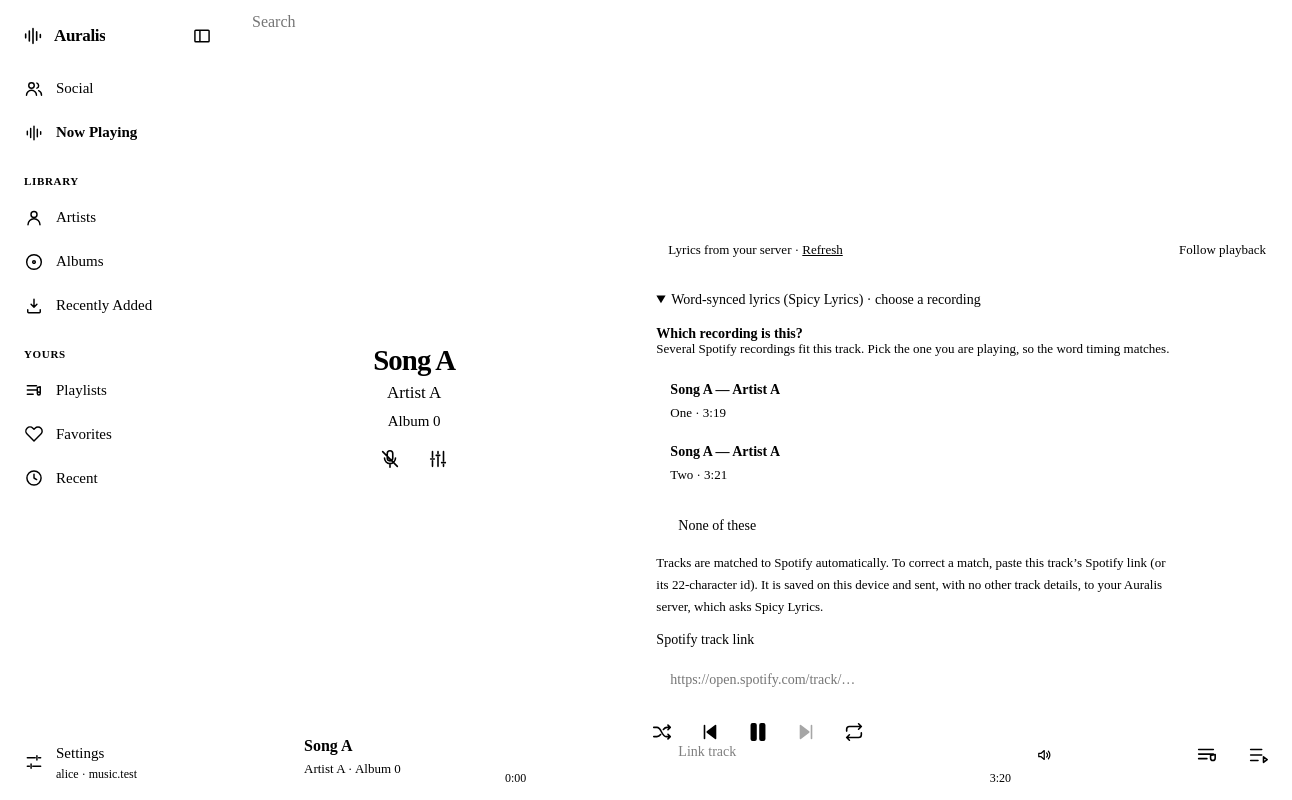
Test: automatic Spotify matching on Now Playing › offers a choice when recordings are ambiguous, falls back meanwhile, and remembers the choice
(page scrolled)
Expected: the heading "Word-synced lyrics (Spicy Lyrics) · choose a recording" is shown, x1=671 y1=292 x2=981 y2=307
Click the button "Song A — Artist A One · 3:19": x=691, y=389 x1=656 y1=370 x2=1216 y2=432
(page scrolled)
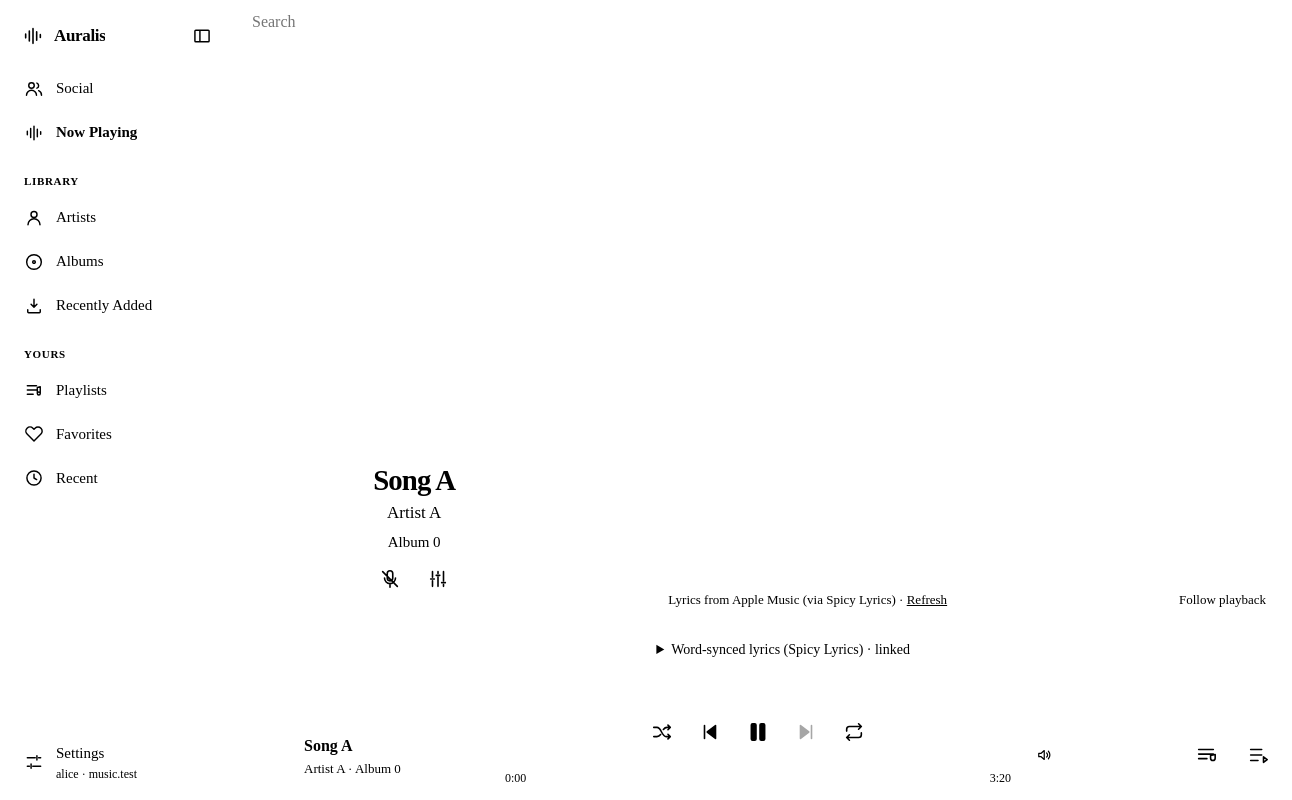
Expected: the heading "Word-synced lyrics (Spicy Lyrics) · linked" is shown, x1=671 y1=642 x2=910 y2=657
